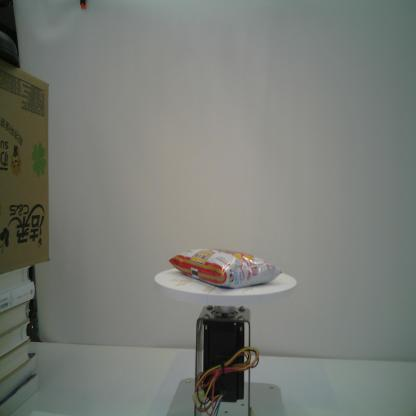Seasoner: (168, 244, 282, 290)
